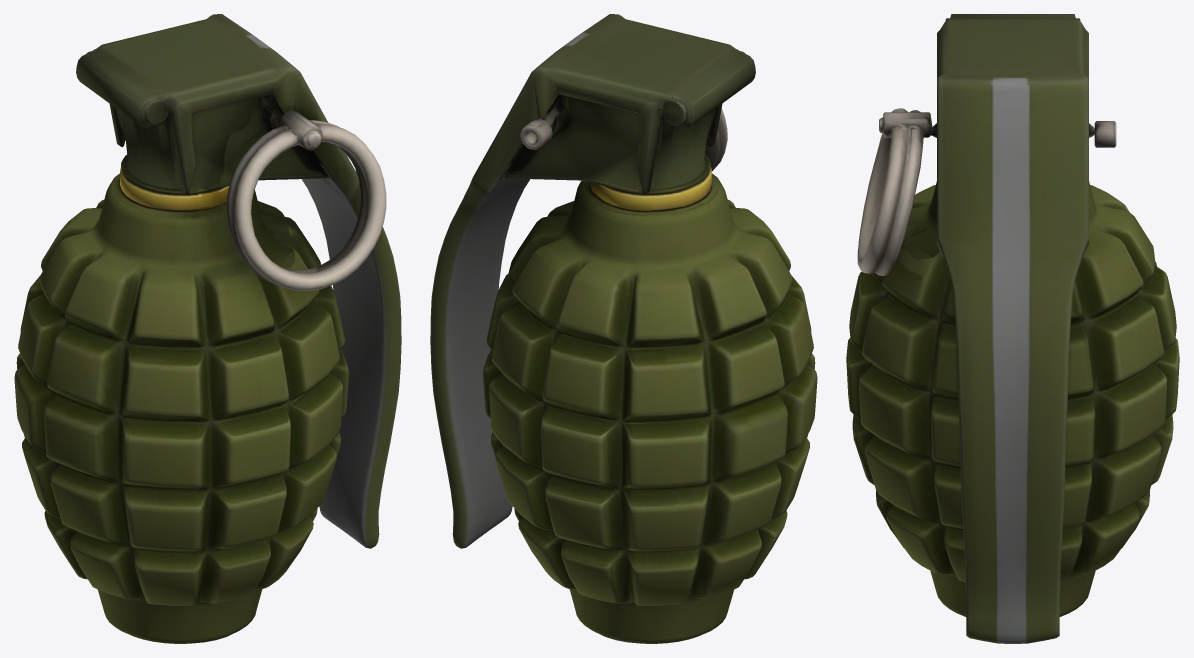
File: grenade_d45ac7d5_v2.glb
3 views of the same model, side by side, from view 1: azimuth 30°, elevation 25°; view 2: azimuth 150°, elevation 25°; view 3: azimuth 270°, elevation 25° (orthographic).
Visible parts, largest first — view 1: texture_pbr_20250901; view 2: texture_pbr_20250901; view 3: texture_pbr_20250901.
Boxes of the visible parts, bbox=[...] form: texture_pbr_20250901: bbox=[14, 14, 401, 643]; texture_pbr_20250901: bbox=[430, 14, 817, 643]; texture_pbr_20250901: bbox=[846, 14, 1179, 643].
Size of the model in its own units: 1.22 by 1.9 by 1.04.
Materials: 1 (1 with a texture image).
